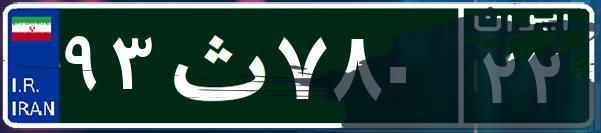0: (385, 28, 445, 110)
2: (475, 38, 525, 113), (525, 38, 570, 115)
3: (110, 28, 158, 105)
7: (273, 28, 330, 110)
8: (330, 28, 385, 110)
9: (57, 26, 110, 107)
ث: (158, 15, 273, 115)
